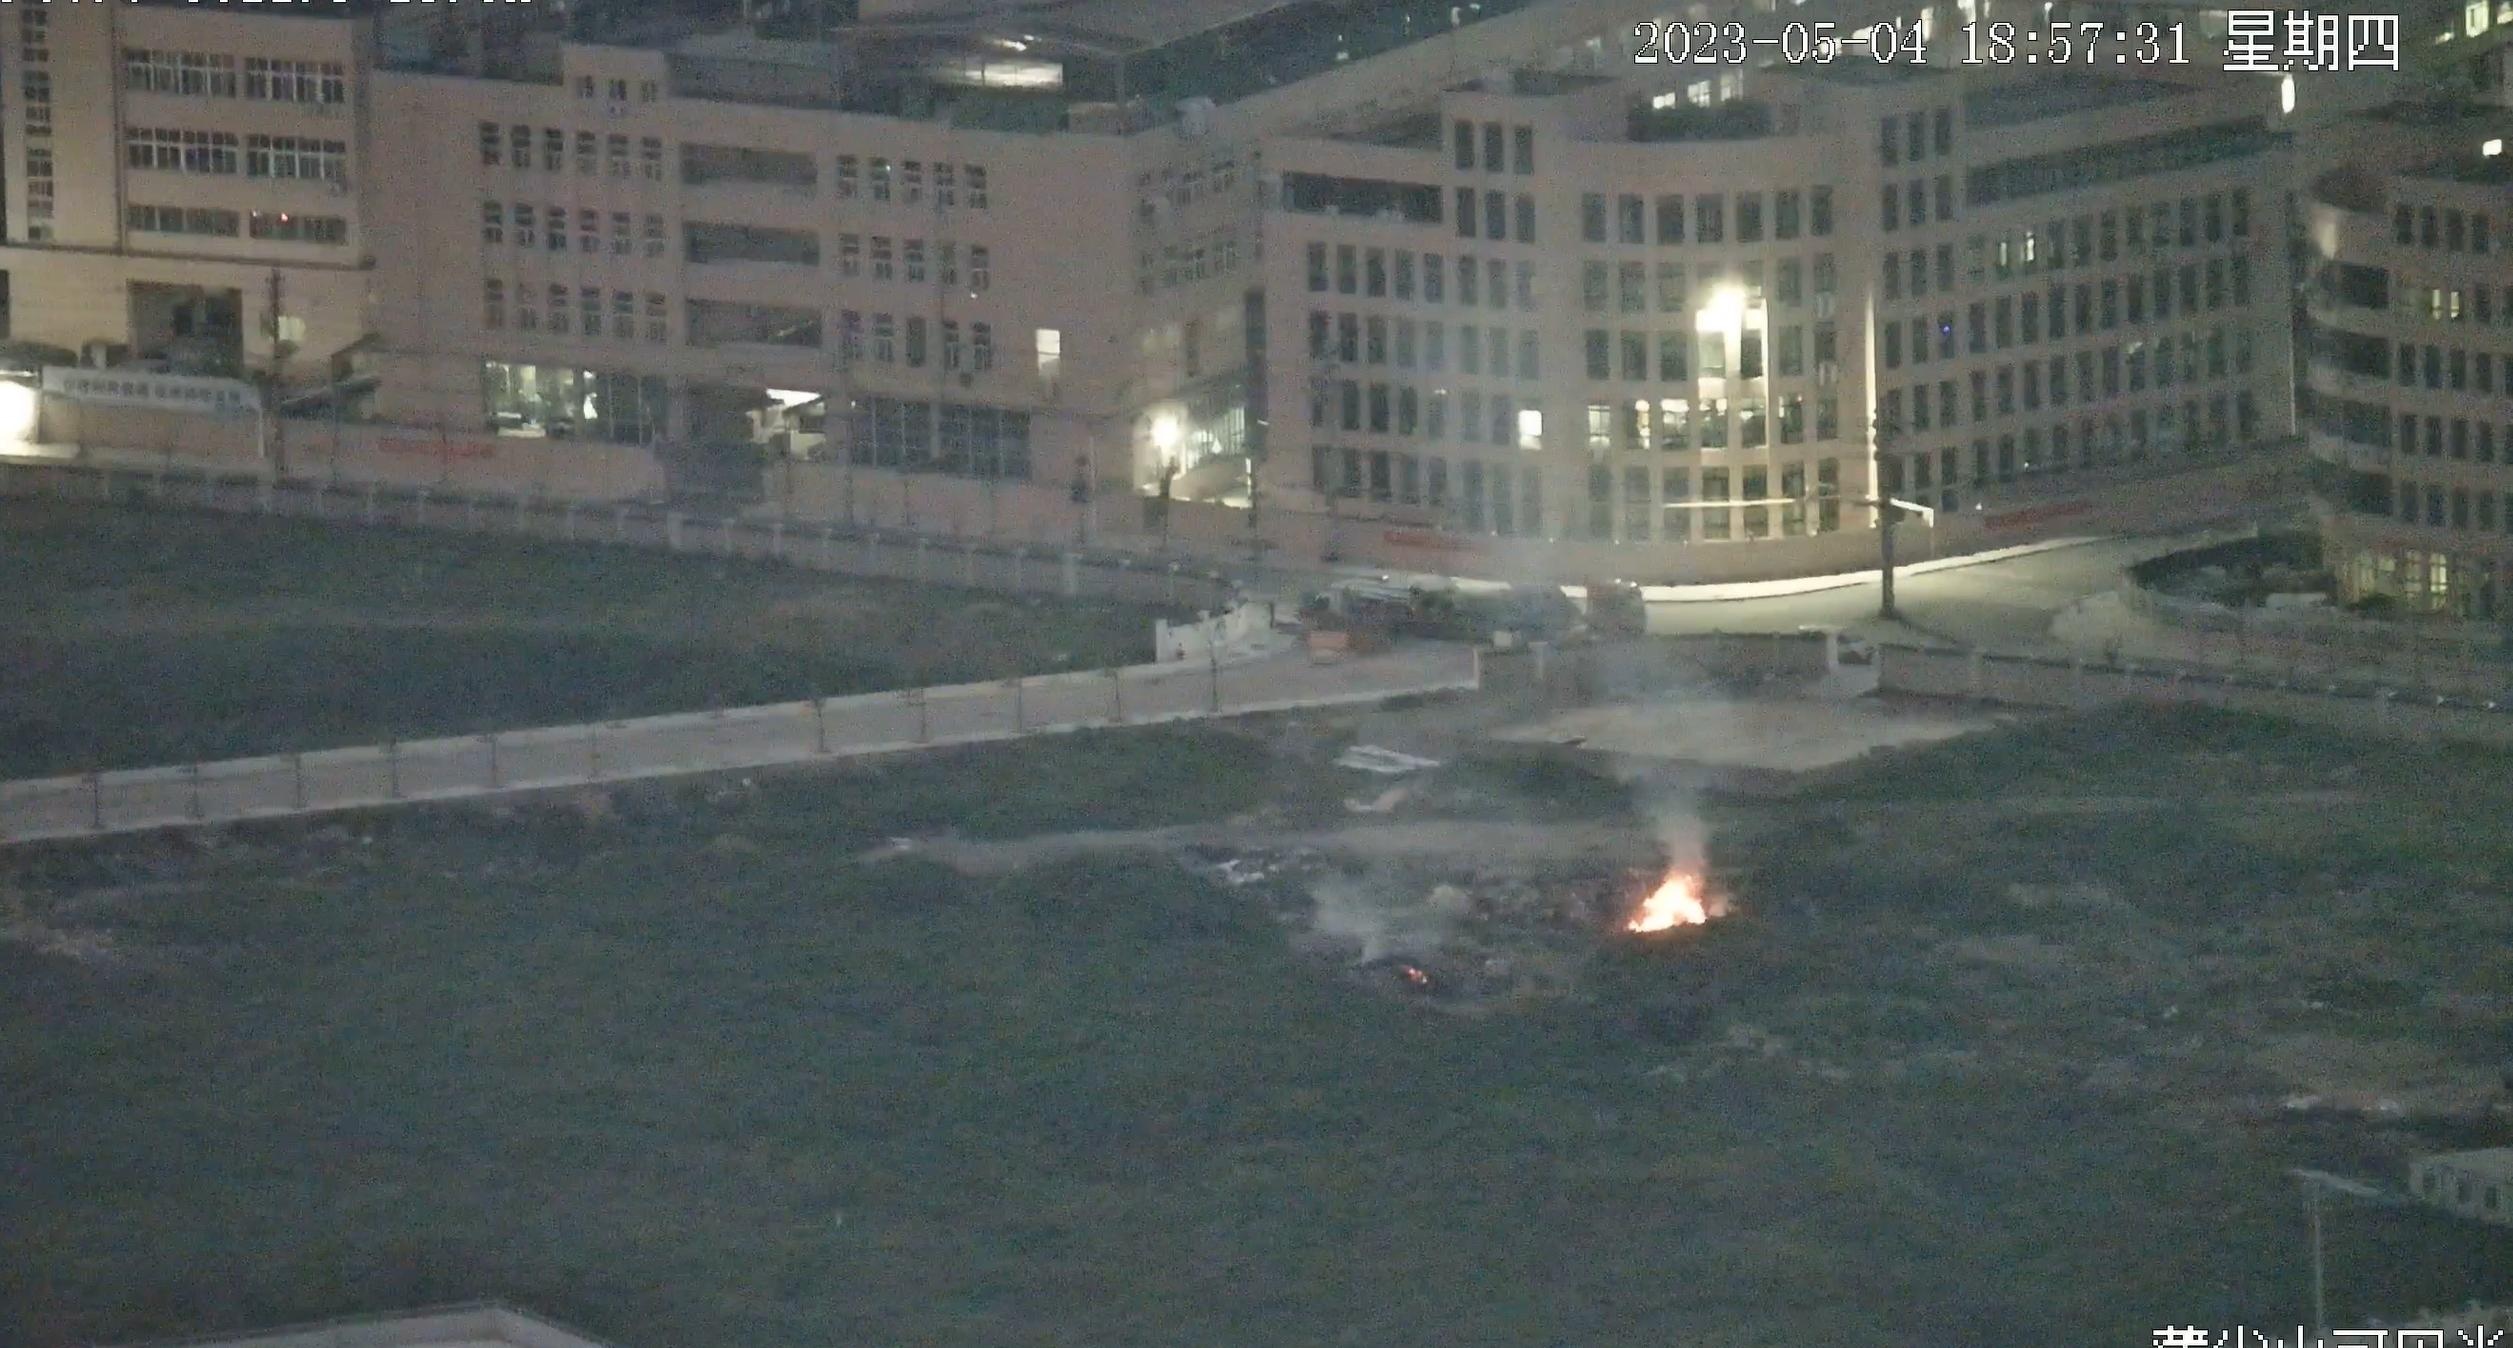Fire: (1635, 866, 1719, 939)
Smoke: (1305, 871, 1428, 962), (1617, 750, 1720, 858)
